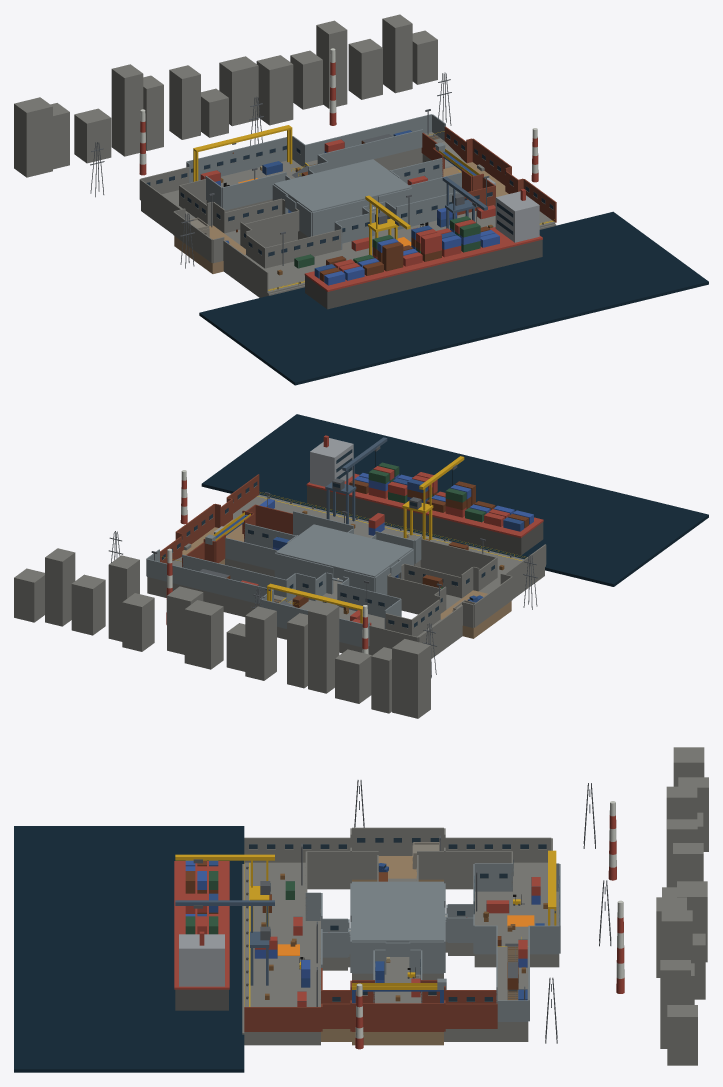
The model's file is docks.glb.
3 renders of one model, top to bottom at view 1: azimuth 30°, elevation 25°; view 2: azimuth 150°, elevation 25°; view 3: azimuth 270°, elevation 25°, orthographic. The views are drawn at different scales.
Visible parts, largest first — view 1: Sea1, Hull1, Ceiling2, Skyline1, Skyline4, Skyline9, Skyline8, Skyline13, Skyline6, Skyline11, RoomWall46, Skyline12 (+30 smaller); view 2: Sea1, Ceiling2, Hull1, Skyline1, Skyline4, Skyline8, Skyline6, Skyline13, RoomWall51, Skyline12, Skyline11, Skyline3 (+33 smaller); view 3: Sea1, Ceiling2, Floor17, Floor10, HullBand1, Floor21, RoomWall7, Bridge1, Floor18, RoomWall30, RoomWall59, RoomWall76 (+39 smaller).
Boxes of the visible parts, left/top/right/bottom form: Sea1: left=199, top=211, right=708, bottom=385; Hull1: left=305, top=239, right=542, bottom=309; Ceiling2: left=274, top=159, right=411, bottom=212; Skyline1: left=14, top=97, right=52, bottom=177; Skyline4: left=111, top=64, right=143, bottom=156; Skyline9: left=256, top=55, right=293, bottom=125; Skyline8: left=219, top=56, right=258, bottom=126; Skyline13: left=382, top=14, right=412, bottom=93; Skyline6: left=169, top=65, right=200, bottom=139; Skyline11: left=316, top=20, right=347, bottom=108; RoomWall46: left=186, top=137, right=286, bottom=182; Skyline12: left=348, top=39, right=382, bottom=99; Sea1: left=201, top=414, right=708, bottom=586; Ceiling2: left=275, top=524, right=412, bottom=577; Hull1: left=307, top=486, right=543, bottom=555; Skyline1: left=392, top=639, right=430, bottom=718; Skyline4: left=308, top=602, right=339, bottom=693; Skyline8: left=184, top=600, right=223, bottom=669; Skyline6: left=245, top=606, right=276, bottom=680; Skyline13: left=45, top=548, right=75, bottom=626; RoomWall51: left=146, top=559, right=273, bottom=603; Skyline12: left=71, top=574, right=105, bottom=635; Skyline11: left=108, top=555, right=139, bottom=641; Skyline3: left=335, top=649, right=371, bottom=703; Sea1: left=14, top=826, right=244, bottom=1072; Ceiling2: left=352, top=881, right=443, bottom=941; Floor17: left=244, top=921, right=320, bottom=992; Floor10: left=474, top=891, right=559, bottom=967; HullBand1: left=174, top=861, right=229, bottom=989; Floor21: left=244, top=862, right=305, bottom=920; RoomWall7: left=352, top=1003, right=443, bottom=1031; Bridge1: left=179, top=934, right=224, bottom=986; Floor18: left=244, top=992, right=320, bottom=1045; RoomWall30: left=352, top=827, right=443, bottom=855; RoomWall59: left=244, top=837, right=351, bottom=862; RoomWall76: left=244, top=1007, right=320, bottom=1031.
Size of the model in its own units: 150 by 31.18 by 181.
